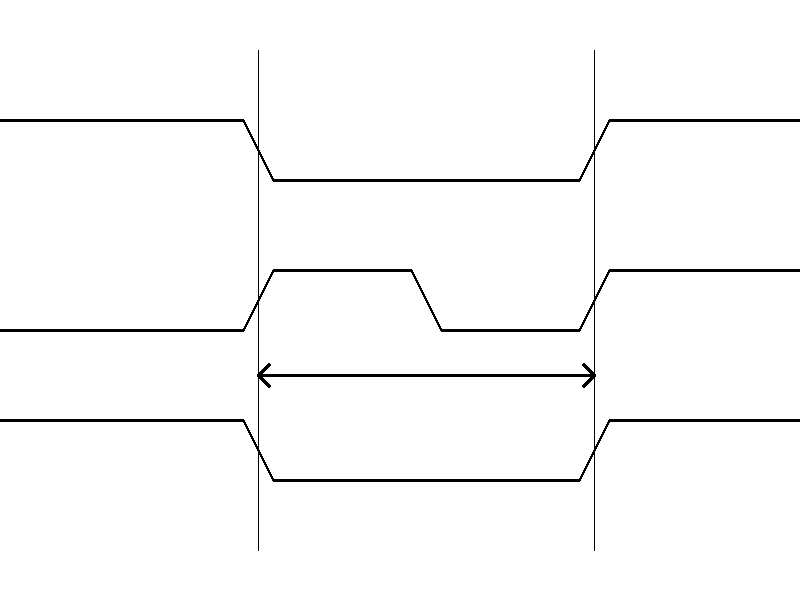double_arrow: (258, 360, 594, 390)
